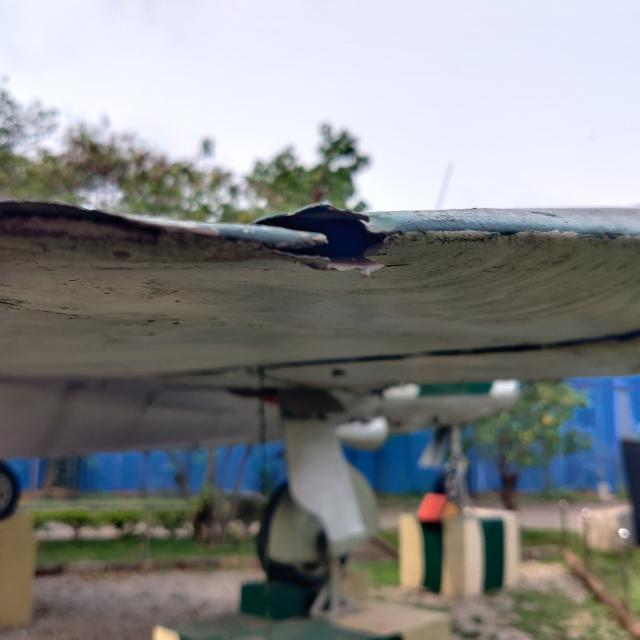crack: (239, 198, 416, 286)
